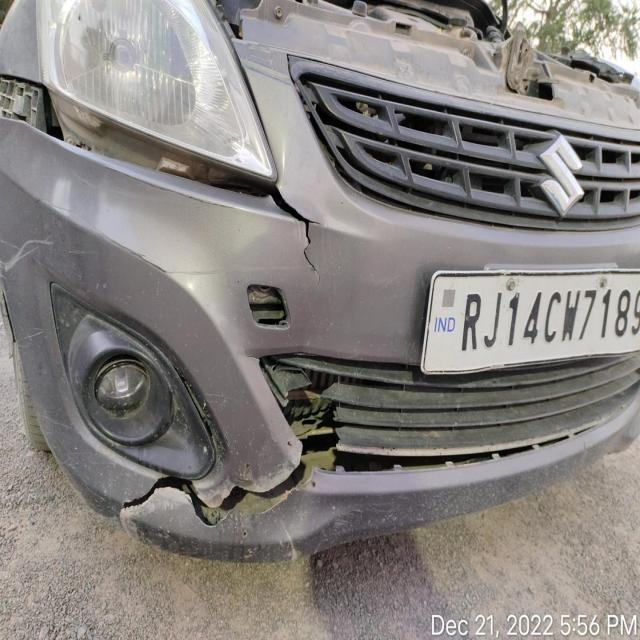damage: (116, 353, 362, 533), (272, 181, 326, 278), (245, 276, 291, 333)
